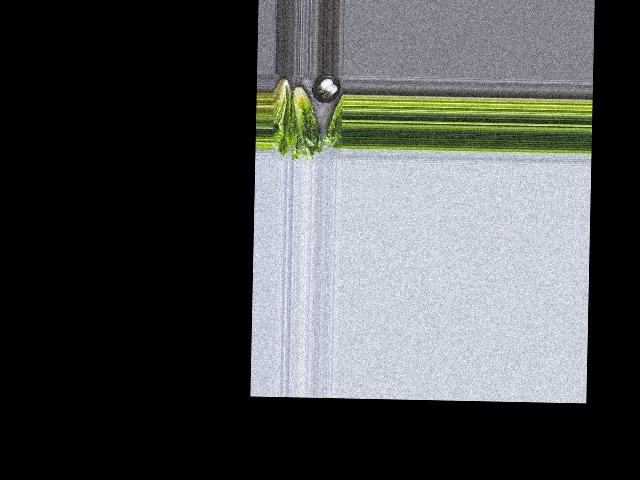lettuce: (272, 74, 294, 150)
